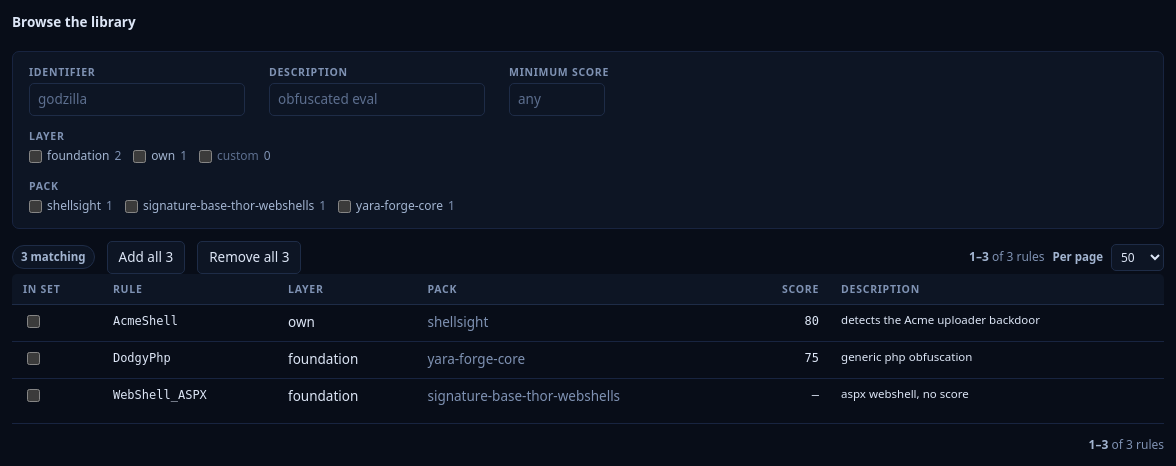
Test: an empty result says so instead of showing an empty table
This screenshot has width=1176, height=466.
Type "zzzz" into the field labelled "Identifier" at (137, 100), box [29, 83, 245, 116]
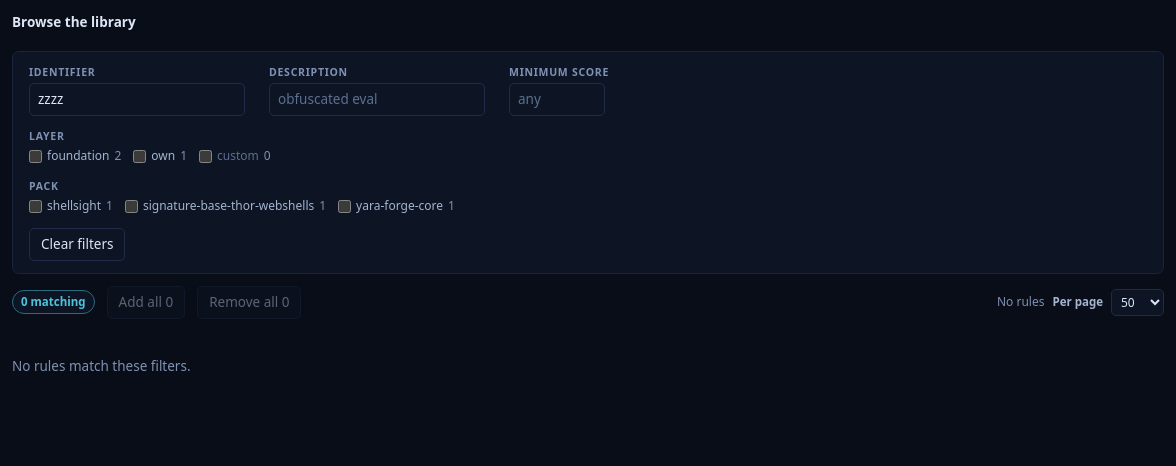
Now the text "No rules match these filters." is shown, box [12, 357, 190, 375]
